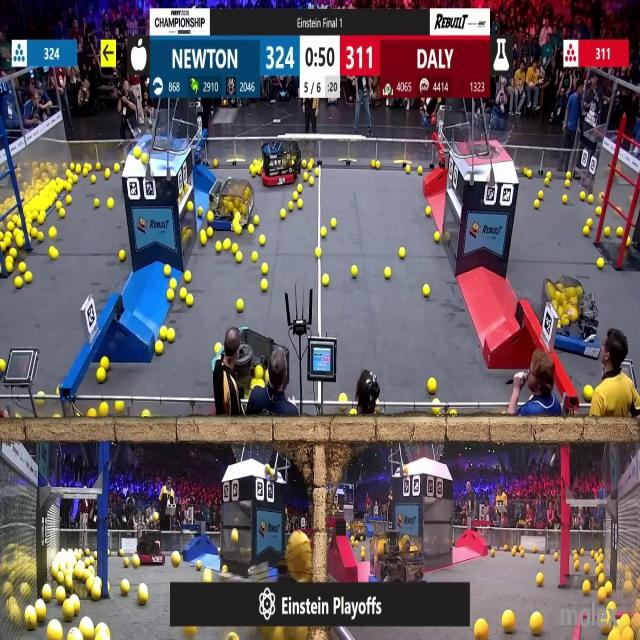ball_airborne: (274, 627, 285, 639), (141, 153, 148, 164), (134, 147, 140, 158), (152, 513, 158, 523)
ball_ground: (530, 614, 543, 636), (502, 612, 514, 634), (47, 622, 61, 639), (81, 623, 93, 640), (64, 604, 74, 624), (36, 602, 46, 621), (138, 587, 148, 605), (42, 587, 52, 603), (57, 588, 67, 603), (585, 385, 594, 401), (428, 378, 436, 394), (598, 588, 606, 604), (120, 582, 129, 596), (583, 582, 592, 596), (601, 622, 610, 636), (28, 617, 37, 631), (230, 531, 238, 546), (98, 367, 106, 381), (66, 577, 74, 591), (114, 400, 123, 412), (93, 589, 102, 601), (154, 342, 162, 355), (100, 405, 108, 418), (204, 569, 212, 582), (536, 572, 543, 586), (384, 268, 392, 280), (101, 356, 109, 368), (321, 274, 329, 286), (49, 248, 57, 260), (5, 262, 13, 274), (262, 280, 270, 292), (172, 554, 180, 566), (168, 328, 175, 341), (222, 241, 230, 252), (186, 294, 193, 306), (168, 290, 175, 302), (165, 266, 172, 278), (238, 300, 245, 312), (16, 237, 23, 249), (74, 600, 80, 614), (96, 624, 103, 636), (340, 392, 348, 402), (90, 409, 98, 419), (26, 273, 33, 284), (14, 277, 21, 288), (118, 250, 125, 261), (423, 284, 429, 296), (398, 247, 404, 259), (352, 266, 358, 278), (162, 327, 168, 339), (0, 359, 6, 371), (38, 212, 44, 224), (170, 280, 177, 290), (49, 229, 56, 239), (235, 224, 242, 234), (597, 258, 604, 268), (598, 574, 605, 584), (237, 252, 243, 263), (184, 272, 190, 283), (316, 247, 322, 258), (108, 199, 114, 210), (180, 288, 186, 299), (263, 265, 269, 276), (134, 557, 140, 568), (202, 236, 208, 247), (208, 212, 214, 223), (142, 412, 150, 420), (253, 216, 260, 225), (37, 234, 44, 243), (607, 601, 614, 610), (0, 242, 7, 251), (31, 230, 38, 239), (259, 236, 265, 246), (434, 233, 440, 243), (252, 252, 258, 262), (18, 264, 24, 274), (214, 344, 220, 354), (248, 224, 254, 234), (216, 242, 222, 252), (187, 202, 193, 212), (195, 560, 201, 570), (330, 218, 336, 228), (618, 228, 624, 238), (320, 228, 326, 238), (584, 563, 590, 573), (432, 409, 439, 417), (596, 207, 602, 216), (604, 229, 610, 238), (584, 226, 590, 235), (208, 229, 214, 238), (10, 248, 16, 257), (66, 182, 72, 191), (75, 166, 81, 175), (7, 222, 13, 231), (596, 565, 602, 574), (281, 209, 286, 219), (288, 202, 293, 212), (534, 200, 539, 210), (233, 244, 238, 254), (451, 411, 458, 418), (418, 167, 424, 175), (579, 191, 585, 199), (95, 200, 101, 208), (587, 218, 593, 226), (123, 560, 129, 568), (566, 172, 572, 180), (573, 562, 579, 570), (292, 191, 298, 199), (221, 565, 227, 573), (72, 175, 78, 183), (212, 160, 218, 168), (66, 170, 72, 178), (68, 634, 76, 640), (82, 168, 88, 176), (61, 209, 66, 218), (589, 193, 594, 202), (555, 553, 560, 562), (407, 164, 412, 173), (105, 170, 110, 179), (315, 168, 320, 177), (370, 161, 375, 170), (545, 172, 551, 179), (57, 202, 63, 209), (198, 208, 204, 215), (563, 194, 568, 202), (67, 197, 72, 205), (114, 165, 119, 173), (360, 553, 365, 561), (565, 182, 570, 190), (527, 170, 532, 178), (250, 168, 255, 176), (376, 162, 381, 170), (426, 207, 430, 216), (540, 555, 544, 564), (350, 411, 356, 417), (267, 463, 271, 472), (55, 414, 61, 420), (92, 176, 97, 183), (307, 180, 312, 187), (532, 545, 537, 552), (627, 239, 632, 246), (503, 543, 508, 550), (297, 201, 301, 209), (538, 190, 542, 198), (544, 178, 548, 186), (297, 184, 301, 192), (97, 164, 101, 172), (492, 550, 496, 558), (0, 234, 4, 242), (118, 551, 123, 557), (432, 398, 438, 403), (307, 162, 311, 169), (580, 550, 584, 557), (521, 552, 525, 559), (513, 550, 517, 557), (218, 547, 221, 553)
goal: (460, 118, 516, 158), (128, 116, 187, 152)
robot_blue: (543, 276, 602, 357), (210, 178, 256, 234)
robot_red: (261, 138, 302, 186), (135, 529, 165, 564)
